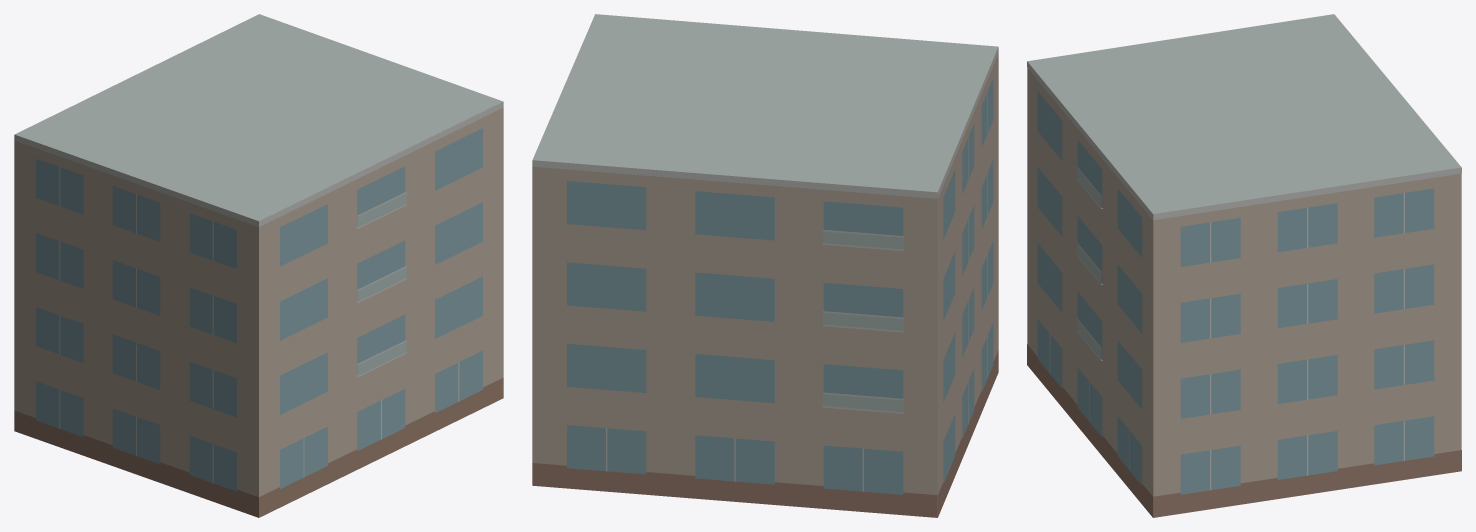
The model's file is survey-upis-32800207.glb.
3 renders of one model, left to right at view 1: azimuth 30°, elevation 25°; view 2: azimuth 150°, elevation 25°; view 3: azimuth 270°, elevation 25°, orthographic. The views are drawn at different scales.
Visible parts, largest first — view 1: survey-upis-32800207.tmp; view 2: survey-upis-32800207.tmp; view 3: survey-upis-32800207.tmp.
Boxes of the visible parts, x1,y1,x2,y2 form: survey-upis-32800207.tmp: [14, 14, 503, 517]; survey-upis-32800207.tmp: [532, 14, 998, 517]; survey-upis-32800207.tmp: [1027, 14, 1461, 517].
Size of the model in its own units: 17.25 by 12.2 by 15.83.
